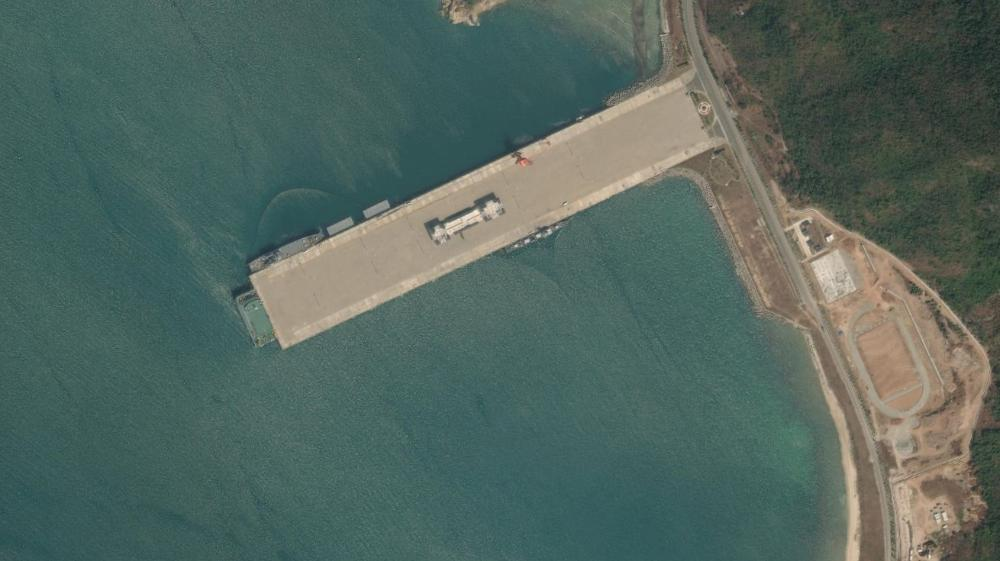submarine: (495, 215, 579, 260)
